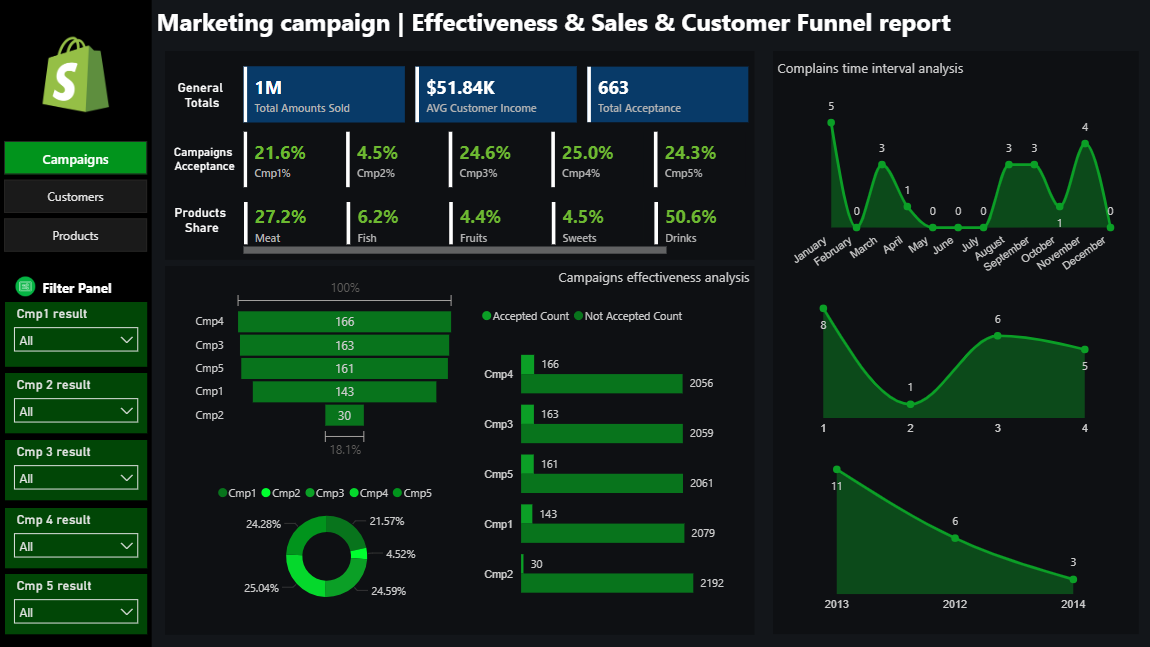

This screenshot's page, from the dashboard's own definition file:
{"tool":"powerbi","page":{"name":"Campaigns","canvas":[1280,720],"ordinal":0},"visuals":[{"type":"shape","box":[0,0,169.7,720.6],"z":0},{"type":"textbox","box":[169.7,0,1080.1,57.1],"z":1000},{"type":"shape","box":[184.8,57.1,655.1,232],"z":2000},{"type":"cardVisual","fields":{"Data":["DimProducts.Total Amounts","DimCustomer.AVG Income","DimCampains.Total acceptance"]},"box":[267.1,68.9,572.8,72.2],"z":3000},{"type":"card","fields":{"Values":["FactCustomerPurchases.General totals"]},"box":[184.8,72.2,82.3,68.9],"z":4000},{"type":"cardVisual","fields":{"Data":["DimCampains.Cmp1 Acceptance%","DimCampains.Cmp2 Acceptance%","DimCampains.Cmp3 Acceptance%","DimCampains.Cmp4 Acceptance%","DimCampains.Cmp5 Acceptance%"]},"box":[267.1,141.1,572.8,72.2],"z":5000},{"type":"card","fields":{"Values":["DimCampains.Campaign Acceptance %"]},"box":[171,142.8,115,68.9],"z":6000},{"type":"cardVisual","fields":{"Data":["DimProducts.Meat share %","DimProducts.Fish share %","DimProducts.Fruits share %","DimProducts.Sweets share %","DimProducts.Drinks share %","DimProducts.Gold share %"]},"box":[267.1,218.4,572.8,70.6],"z":7000},{"type":"card","fields":{"Values":["DimProducts.Products Share"]},"box":[184.8,211.7,82.3,68.9],"z":8000},{"type":"shape","box":[184.8,295.6,655.1,409.9],"z":9000},{"type":"donutChart","fields":{"Y":["DimCampains.Cmp1 Acceptance%","DimCampains.Cmp2 Acceptance%","DimCampains.Cmp3 Acceptance%","DimCampains.Cmp4 Acceptance%","DimCampains.Cmp5 Acceptance%"]},"box":[198.2,527.5,332.6,152.9],"z":10000},{"type":"clusteredBarChart","fields":{"Category":["CampaignUnpivoted.Campaign"],"Y":["CampaignUnpivoted.Accepted Count","CampaignUnpivoted.Not Accepted Count"]},"box":[530.8,330.9,283.9,356.1],"z":11000},{"type":"shape","box":[860.1,57.1,406.5,648.4],"z":12000},{"type":"lineChart","fields":{"Y":["Sum(DimCampains.Complain)"],"Category":["DimDate.Month"]},"box":[873.5,99.1,378,225.1],"z":13000},{"type":"lineChart","fields":{"Y":["Sum(DimCampains.Complain)"],"Category":["DimDate.Quarter"]},"box":[871.8,324.2,378,168],"z":14000},{"type":"lineChart","fields":{"Y":["Sum(DimCampains.Complain)"],"Category":["DimDate.Year"]},"box":[873.5,492.2,378,194.9],"z":15000},{"type":"textbox","box":[860.1,60.5,240.2,38.6],"z":16000},{"type":"funnel","fields":{"Category":["CampaignUnpivoted.Campaign"],"Y":["CampaignUnpivoted.Accepted Count"]},"box":[213.3,304,299,210],"z":17000},{"type":"image","box":[43.7,26.9,84,112.5],"z":18000},{"type":"slicer","fields":{"Values":["DimCampains.Cmp1 result"]},"box":[6.7,336,157.9,72.2],"z":19000},{"type":"slicer","fields":{"Values":["DimCampains.Cmp 2 result"]},"box":[6.7,414.6,157.9,67.2],"z":20000},{"type":"slicer","fields":{"Values":["DimCampains.Cmp 3 result"]},"box":[6.7,488.5,157.9,67.2],"z":21000},{"type":"slicer","fields":{"Values":["DimCampains.Cmp 4 result"]},"box":[6.7,564.1,157.9,67.2],"z":22000},{"type":"slicer","fields":{"Values":["DimCampains.Cmp 5 result"]},"box":[6.7,638.3,157.9,67.2],"z":23000},{"type":"textbox","box":[43.7,304,97.4,42],"z":24000},{"type":"image","box":[13.4,302.4,31.9,31.9],"z":25000},{"type":"textbox","box":[617,292.3,240.2,38.6],"z":26000},{"type":"pageNavigator","box":[5,156.2,159.6,124.3],"z":27000}]}

Visuals, with their boxes in screenshot pixels (x1, y1, x2, y2), scaled from the page's 1280x720 canvas onto the 1150x647 screenshot:
shape: [0, 0, 152, 646]
textbox: [152, 0, 1123, 51]
shape: [166, 51, 755, 260]
cardVisual - DimProducts.Total Amounts x DimCustomer.AVG Income: [240, 62, 755, 127]
card - FactCustomerPurchases.General totals: [166, 65, 240, 127]
cardVisual - DimCampains.Cmp1 Acceptance% x DimCampains.Cmp2 Acceptance%: [240, 127, 755, 192]
card - DimCampains.Campaign Acceptance %: [154, 128, 257, 190]
cardVisual - DimProducts.Meat share % x DimProducts.Fish share %: [240, 196, 755, 260]
card - DimProducts.Products Share: [166, 190, 240, 252]
shape: [166, 266, 755, 634]
donutChart - DimCampains.Cmp1 Acceptance% x DimCampains.Cmp2 Acceptance%: [178, 474, 477, 611]
clusteredBarChart - CampaignUnpivoted.Campaign x CampaignUnpivoted.Accepted Count: [477, 297, 732, 617]
shape: [773, 51, 1138, 634]
lineChart - Sum(DimCampains.Complain) x DimDate.Month: [785, 89, 1124, 291]
lineChart - Sum(DimCampains.Complain) x DimDate.Quarter: [783, 291, 1123, 442]
lineChart - Sum(DimCampains.Complain) x DimDate.Year: [785, 442, 1124, 617]
textbox: [773, 54, 989, 89]
funnel - CampaignUnpivoted.Campaign x CampaignUnpivoted.Accepted Count: [192, 273, 460, 462]
image: [39, 24, 115, 125]
slicer - DimCampains.Cmp1 result: [6, 302, 148, 367]
slicer - DimCampains.Cmp 2 result: [6, 373, 148, 433]
slicer - DimCampains.Cmp 3 result: [6, 439, 148, 499]
slicer - DimCampains.Cmp 4 result: [6, 507, 148, 567]
slicer - DimCampains.Cmp 5 result: [6, 574, 148, 634]
textbox: [39, 273, 127, 311]
image: [12, 272, 41, 300]
textbox: [554, 263, 770, 297]
pageNavigator: [4, 140, 148, 252]
